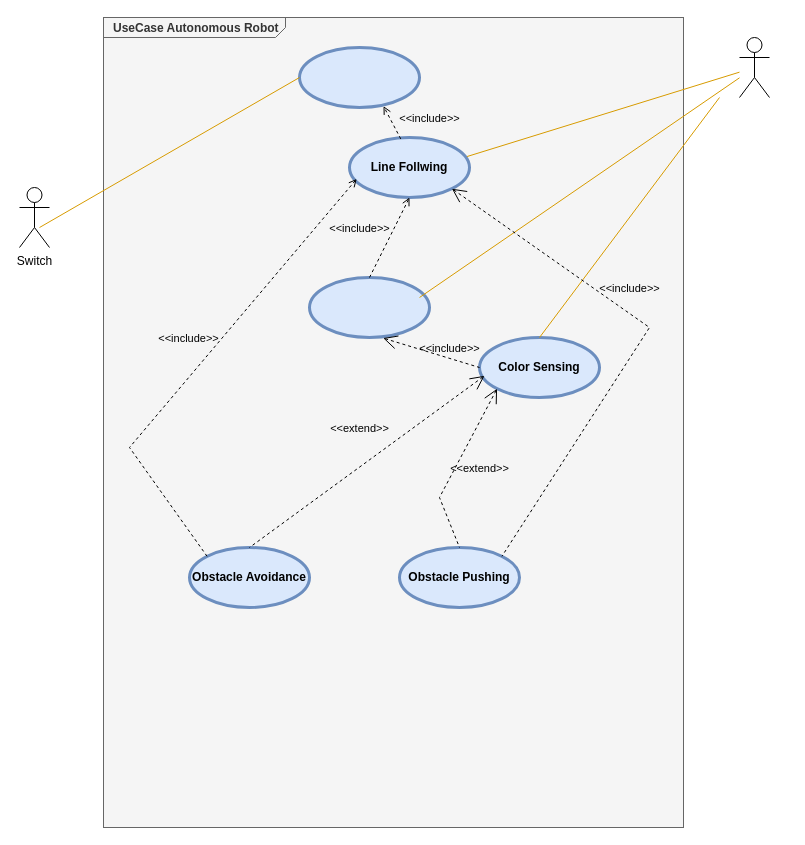
Image size: 805x845. Some labels were removed from this diagram. The box of each missing label's shape, as (x1, y1, x2, y2) in pixels:
Environment: (738, 36, 770, 98)
Obstacle Detection: (308, 276, 430, 338)
Start/Stop: (298, 46, 420, 108)
